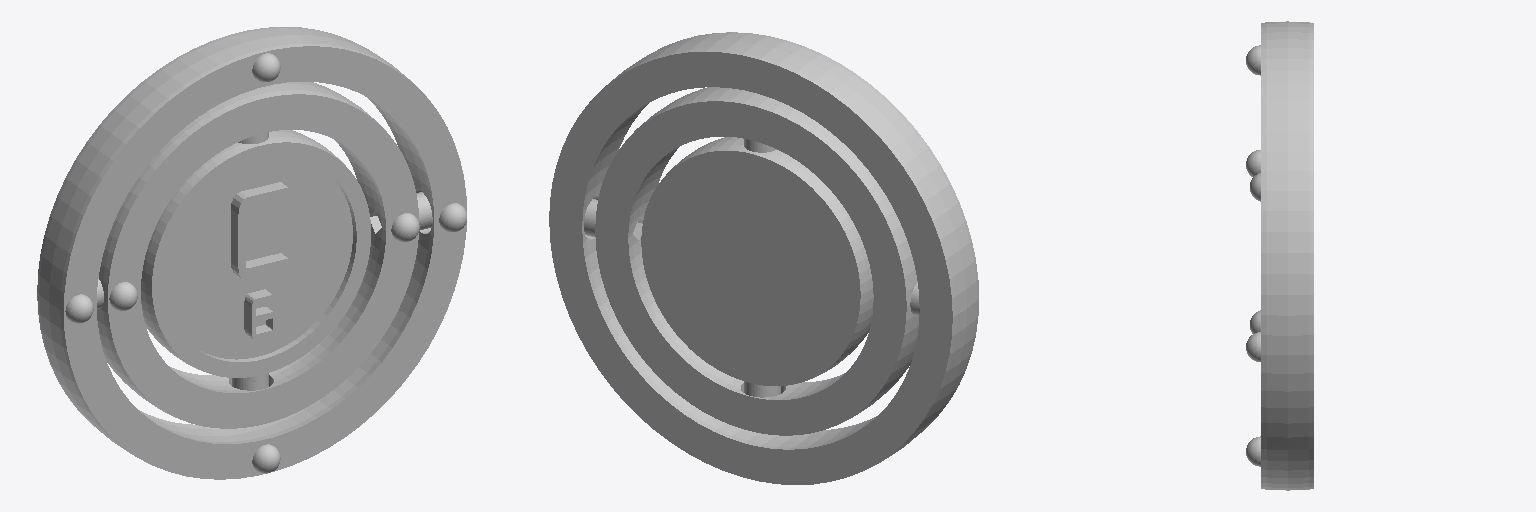
Rendered from 006_-_C_-_Carbon.obj.
3 views of the same model, side by side, from view 1: azimuth 30°, elevation 25°; view 2: azimuth 150°, elevation 25°; view 3: azimuth 270°, elevation 25° (orthographic).
Parts seen in each view (by area): view 1: Object.3, Object.1, Object.2; view 2: Object.3, Object.1, Object.2; view 3: Object.3.
Part boxes in pixels (x1,y1,x2,y2): Object.3: (37, 27, 466, 479); Object.1: (141, 130, 370, 390); Object.2: (97, 82, 432, 428); Object.3: (549, 32, 978, 484); Object.1: (641, 137, 873, 397); Object.2: (584, 87, 919, 435); Object.3: (1246, 21, 1313, 490).
Bounding box in the file's own units: 62 × 61.94 × 9.